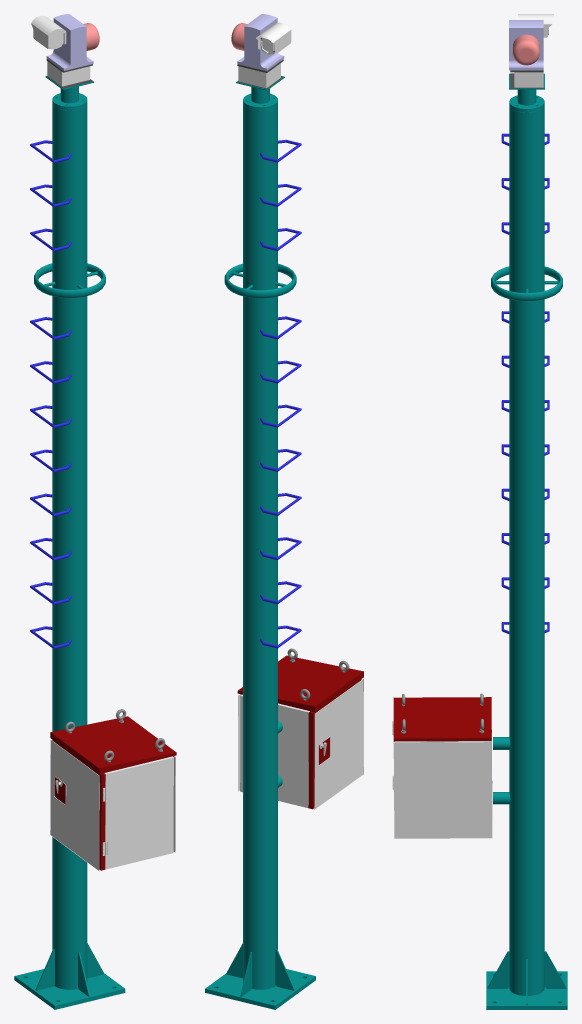
Rendered from HyojunCCTV.dae.
3 renders of one model, left to right at view 1: azimuth 30°, elevation 25°; view 2: azimuth 150°, elevation 25°; view 3: azimuth 270°, elevation 25°, orthographic.
Visible parts, largest first — view 1: group_7 (×2), group_6, group_26, group_24, group_29, group_47, group_41, group_33; view 2: group_7 (×2), group_26, group_6, group_24, group_29, group_47, group_33, group_41; view 3: group_7 (×2), group_9, group_24, group_29, group_35, group_33.
Part boxes in pixels (<box>): group_7 (×2): <box>14,104,125,1009</box>; group_6: <box>104,756,173,869</box>; group_26: <box>50,739,99,870</box>; group_24: <box>50,716,176,774</box>; group_29: <box>46,14,93,70</box>; group_47: <box>52,740,105,870</box>; group_41: <box>31,15,66,48</box>; group_33: <box>47,61,90,86</box>; group_7 (×2): <box>205,104,315,1009</box>; group_26: <box>314,678,363,809</box>; group_6: <box>240,694,309,807</box>; group_24: <box>237,655,363,712</box>; group_29: <box>237,14,284,70</box>; group_47: <box>308,679,361,809</box>; group_33: <box>238,63,280,88</box>; group_41: <box>256,22,291,53</box>; group_7 (×2): <box>486,106,567,1009</box>; group_9: <box>393,742,492,838</box>; group_24: <box>393,697,491,741</box>; group_29: <box>509,20,543,70</box>; group_35: <box>512,34,539,65</box>; group_33: <box>514,72,543,87</box>.
Bounding box in the file's own units: 22.4 × 42.36 × 258.
